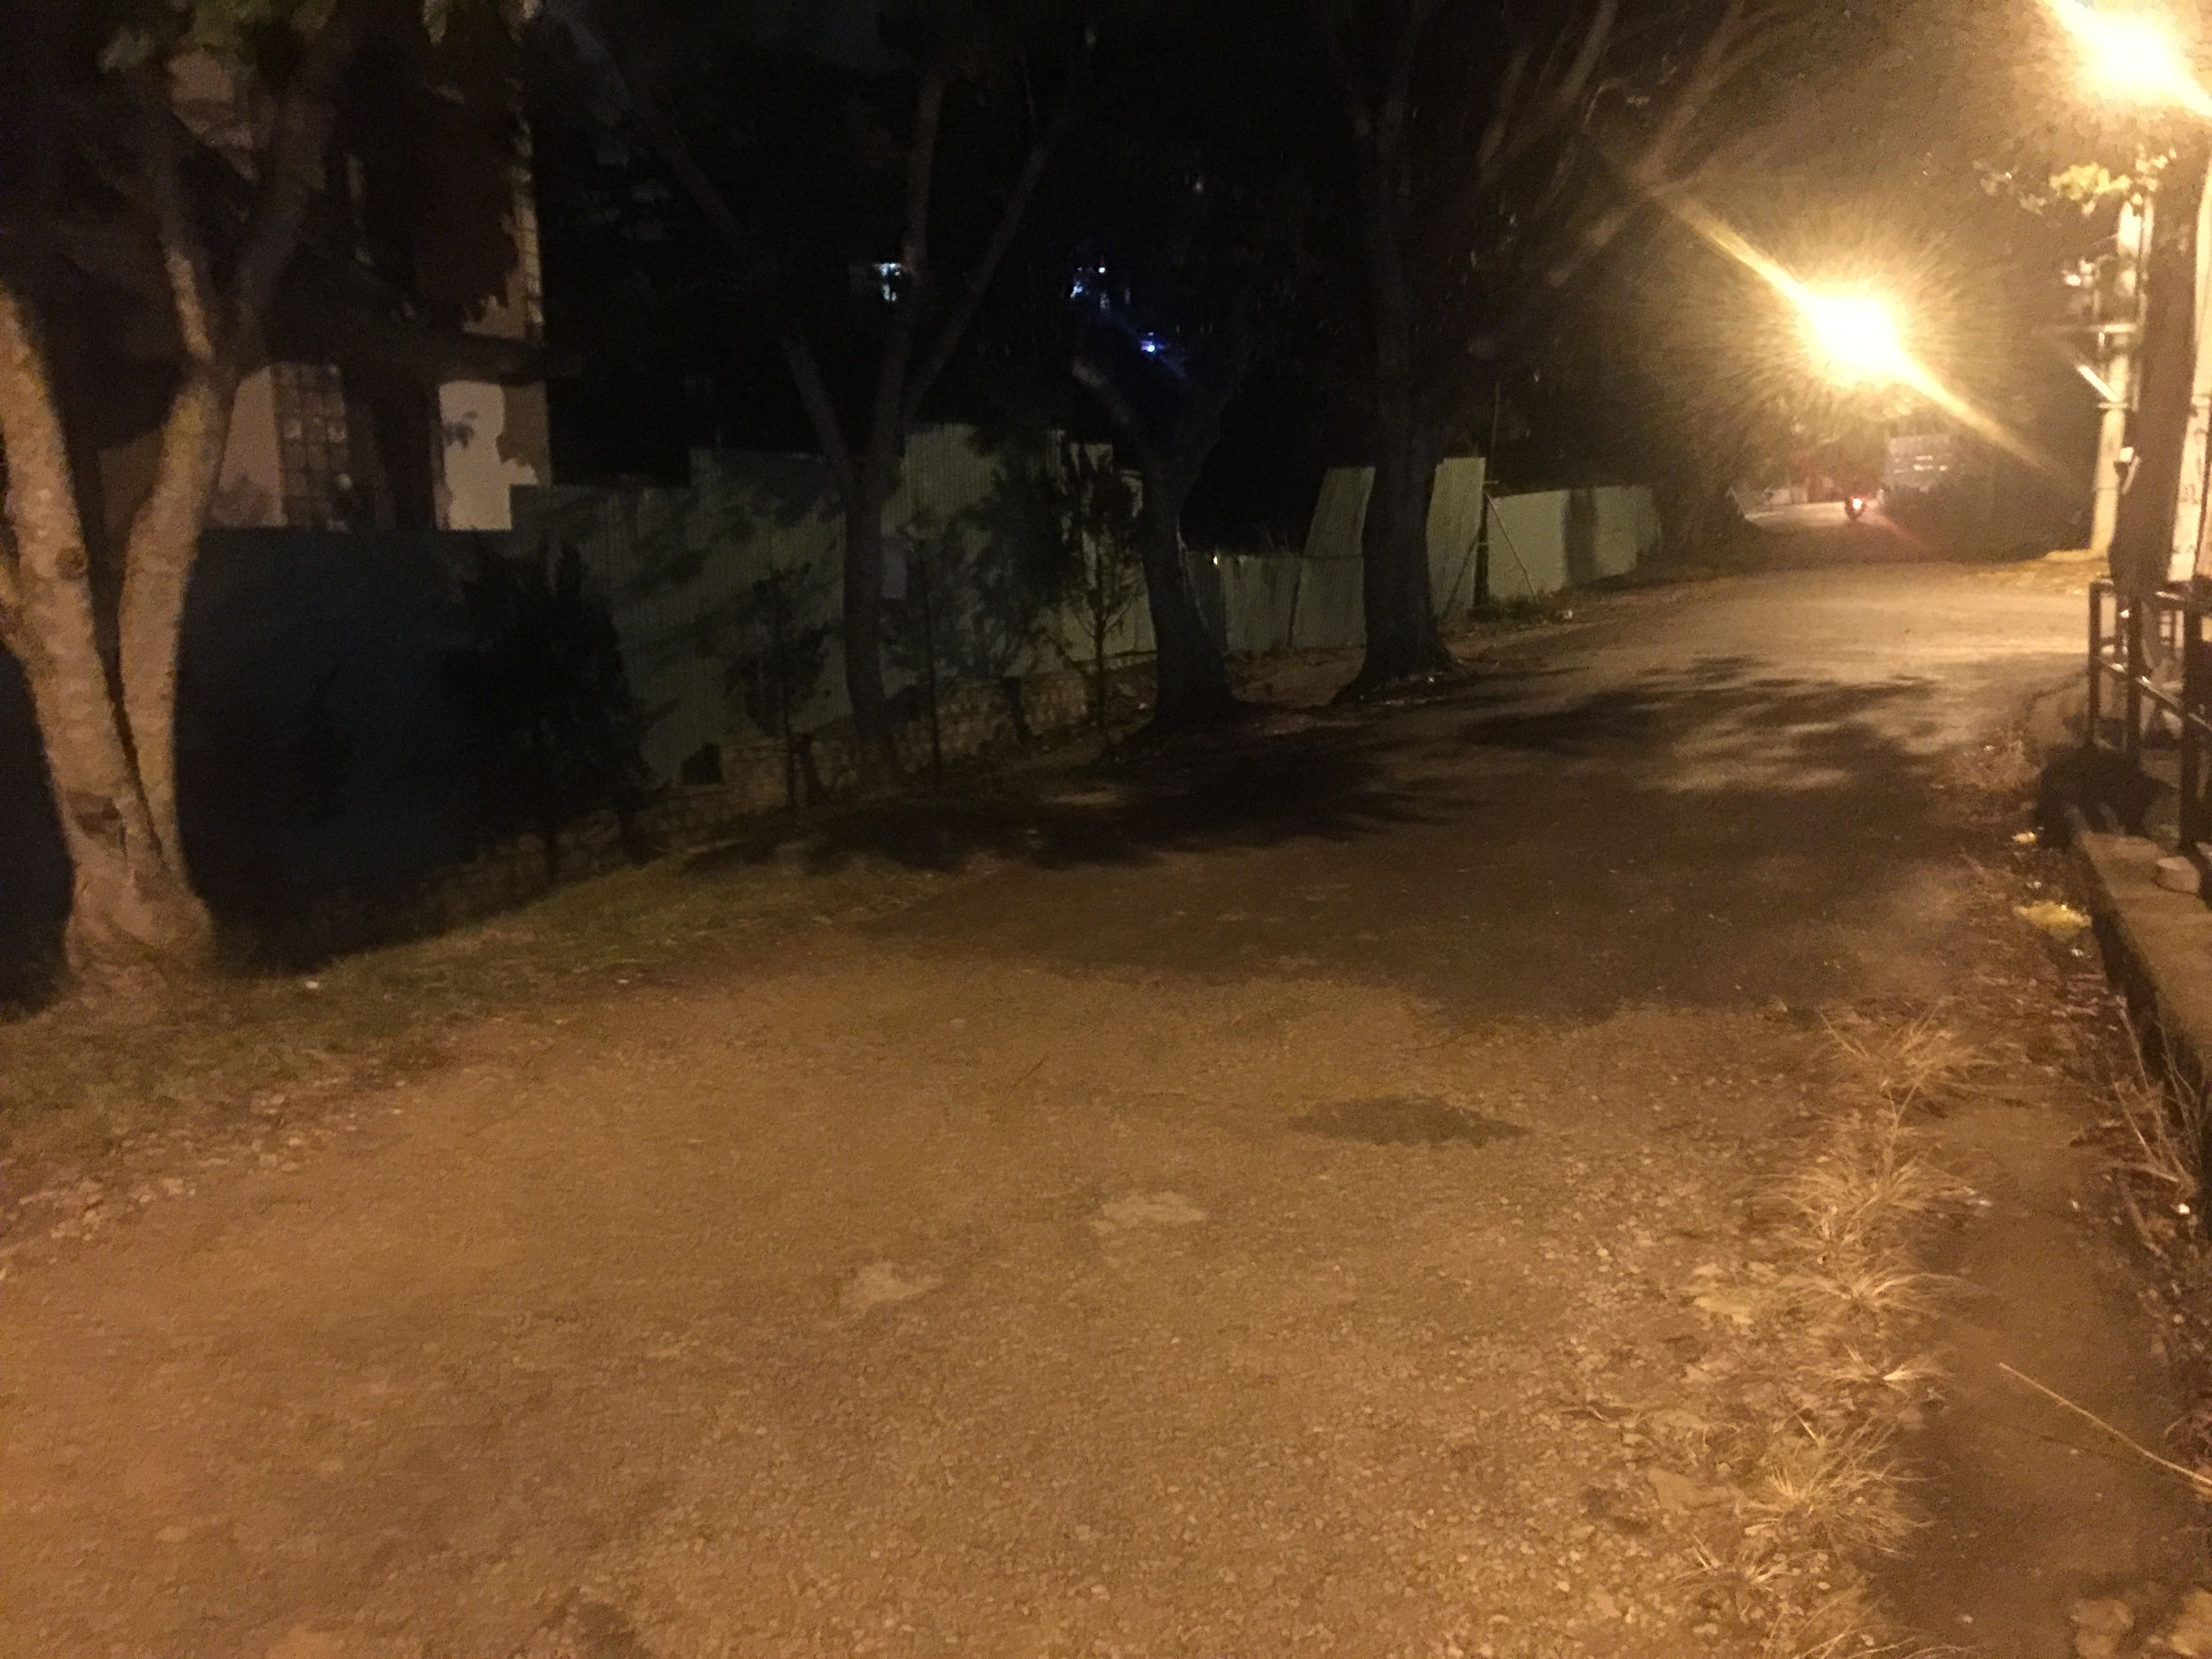hole: (1076, 1175, 1217, 1246), (822, 1256, 958, 1324)
